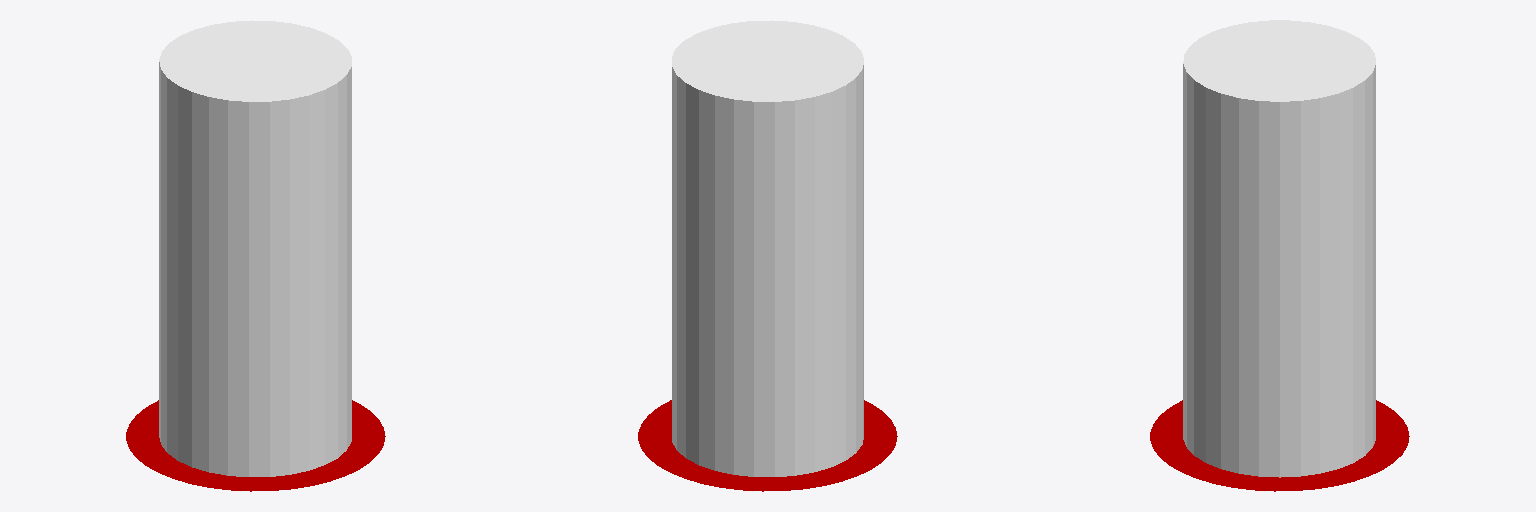
robot.urdf — straight_link.SLDASM:
<?xml version="1.0" encoding="utf-8"?>
<!-- This URDF was automatically created by SolidWorks to URDF Exporter! Originally created by [author] ([email redacted]) 
     Commit Version: 1.6.0-4-g7f85cfe  Build Version: 1.6.7995.38578
     For more information, please see http://wiki.ros.org/sw_urdf_exporter -->
<robot
  name="straight_link.SLDASM">
  <link
    name="output_1">
    <inertial>
      <origin
        xyz="-5.773E-18 -2.9591E-34 -0.075"
        rpy="0 0 0" />
      <mass
        value="0.57727" />
      <inertia
        ixx="0.0012592"
        ixy="-1.0046E-36"
        ixz="-3.3881E-20"
        iyy="0.0012592"
        iyz="-1.4642E-36"
        izz="0.00035358" />
    </inertial>
    <visual>
      <origin
        xyz="0 0 0"
        rpy="0 0 0" />
      <geometry>
        <mesh
          filename="package://straight_link.SLDASM/meshes/output_1.STL" />
      </geometry>
      <material
        name="">
        <color
          rgba="0.79216 0 0 1" />
      </material>
    </visual>
    <collision>
      <origin
        xyz="0 0 0"
        rpy="0 0 0" />
      <geometry>
        <mesh
          filename="package://straight_link.SLDASM/meshes/output_1.STL" />
      </geometry>
    </collision>
  </link>
  <link
    name="body">
    <inertial>
      <origin
        xyz="-5.77295559734162E-18 -2.95909178492858E-34 -0.075"
        rpy="0 0 0" />
      <mass
        value="0.577267650097125" />
      <inertia
        ixx="0.00125916506177435"
        ixy="-1.00460897098603E-36"
        ixz="-3.3881317890172E-20"
        iyy="0.00125916506177435"
        iyz="-1.46416110952065E-36"
        izz="0.000353576435684489" />
    </inertial>
    <visual>
      <origin
        xyz="0 0 0"
        rpy="0 0 0" />
      <geometry>
        <mesh
          filename="package://straight_link.SLDASM/meshes/body.STL" />
      </geometry>
      <material
        name="">
        <color
          rgba="1 1 1 1" />
      </material>
    </visual>
    <collision>
      <origin
        xyz="0 0 0"
        rpy="0 0 0" />
      <geometry>
        <mesh
          filename="package://straight_link.SLDASM/meshes/body.STL" />
      </geometry>
    </collision>
  </link>
  <joint
    name="fixed_1"
    type="fixed">
    <origin
      xyz="0 0 0"
      rpy="0 0 0" />
    <parent
      link="output_1" />
    <child
      link="body" />
    <axis
      xyz="0 0 0" />
  </joint>
  <link
    name="output_2">
    <inertial>
      <origin
        xyz="-5.773E-18 -4.2273E-35 -0.075"
        rpy="0 0 0" />
      <mass
        value="0.57727" />
      <inertia
        ixx="0.0012592"
        ixy="1.0046E-36"
        ixz="3.3881E-20"
        iyy="0.0012592"
        iyz="-1.4642E-36"
        izz="0.00035358" />
    </inertial>
    <visual>
      <origin
        xyz="0 0 0"
        rpy="0 0 0" />
      <geometry>
        <mesh
          filename="package://straight_link.SLDASM/meshes/output_2.STL" />
      </geometry>
      <material
        name="">
        <color
          rgba="0.79216 0 0 1" />
      </material>
    </visual>
    <collision>
      <origin
        xyz="0 0 0"
        rpy="0 0 0" />
      <geometry>
        <mesh
          filename="package://straight_link.SLDASM/meshes/output_2.STL" />
      </geometry>
    </collision>
  </link>
  <joint
    name="fixed_2"
    type="fixed">
    <origin
      xyz="0 0 -0.15"
      rpy="3.14159265358979 0 0" />
    <parent
      link="body" />
    <child
      link="output_2" />
    <axis
      xyz="0 0 0" />
  </joint>
</robot>

--- Render facts (derived) ---
3 views of the same robot in one strip: view 1: azimuth 30°, elevation 25°; view 2: azimuth 150°, elevation 25°; view 3: azimuth 270°, elevation 25° (orthographic).
Model straight_link.SLDASM with 3 links and 2 joints (2 fixed), rooted at output_1, posed every joint at zero.
Links seen in each view (by area): view 1: body, output_2; view 2: body, output_2; view 3: body, output_2.
Link boxes in pixels (<box>): body: <box>159,20,351,476</box>; output_2: <box>126,400,385,491</box>; body: <box>672,20,863,476</box>; output_2: <box>638,400,897,491</box>; body: <box>1183,20,1375,477</box>; output_2: <box>1150,400,1409,491</box>.
Size in the robot's own frame: 0.0939 by 0.0938 by 0.15 metres.
2 mesh visuals loaded from 3 distinct referenced files (2 binary STL); not drawn: 1 (reference not matched to a file when rendering).